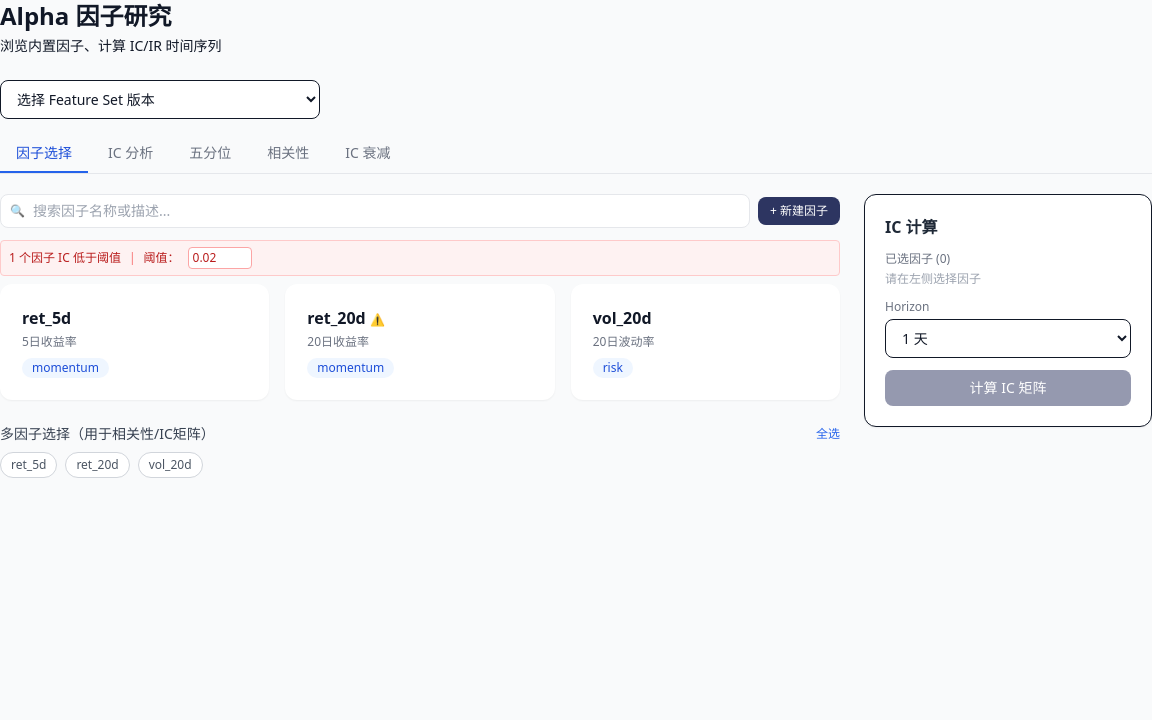
Test case: FactorsPage IC Alerts › opens IC alert modal when warning badge is clicked
Click the button named "ret_20d IC 告警" at (377, 320), box [370, 312, 385, 328]
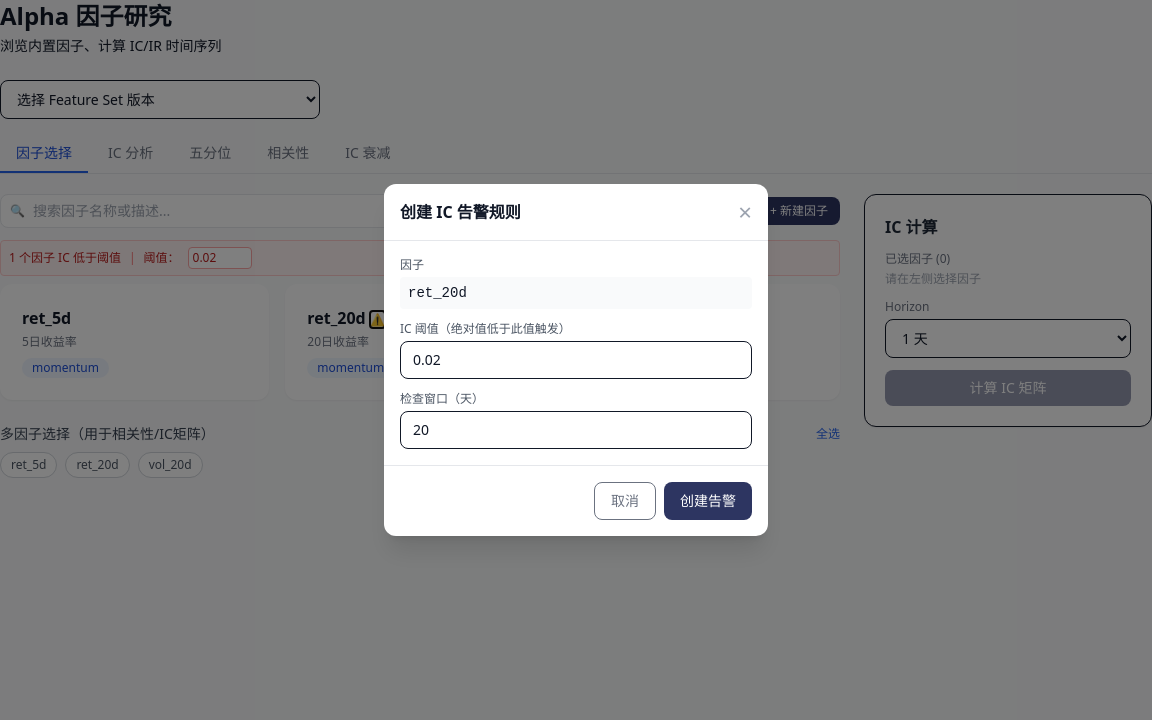
Result: the heading "创建 IC 告警规则" is shown at [400, 200, 521, 224]
Result: the text "IC 阈值（绝对值低于此值触发）" is shown at [400, 320, 571, 337]
Result: the text "检查窗口（天）" is shown at [400, 390, 484, 407]
